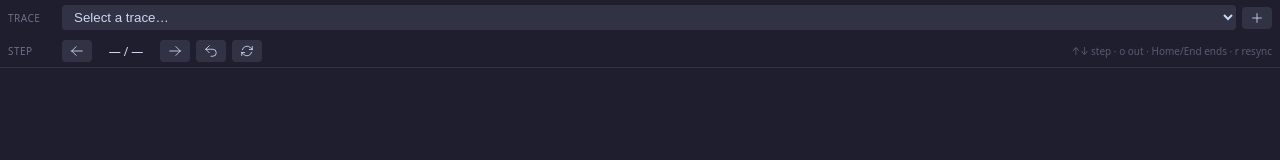
Test: DebugWalkthroughTile › reports a picked file that is not a valid trace
Click the button named "Add trace". click: (1257, 18)
box: x1=1242 y1=6 x2=1272 y2=28
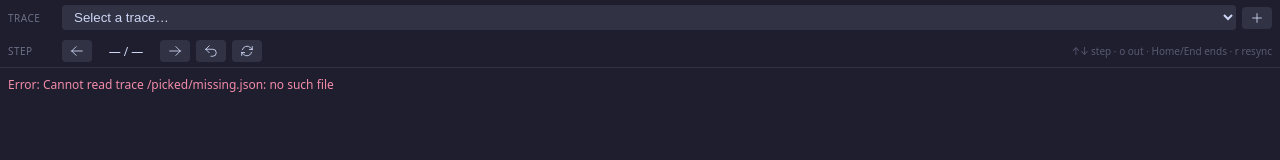
Check: the text with test id "walkthrough-error" shows "Cannot read", box x1=8 y1=76 x2=334 y2=93
